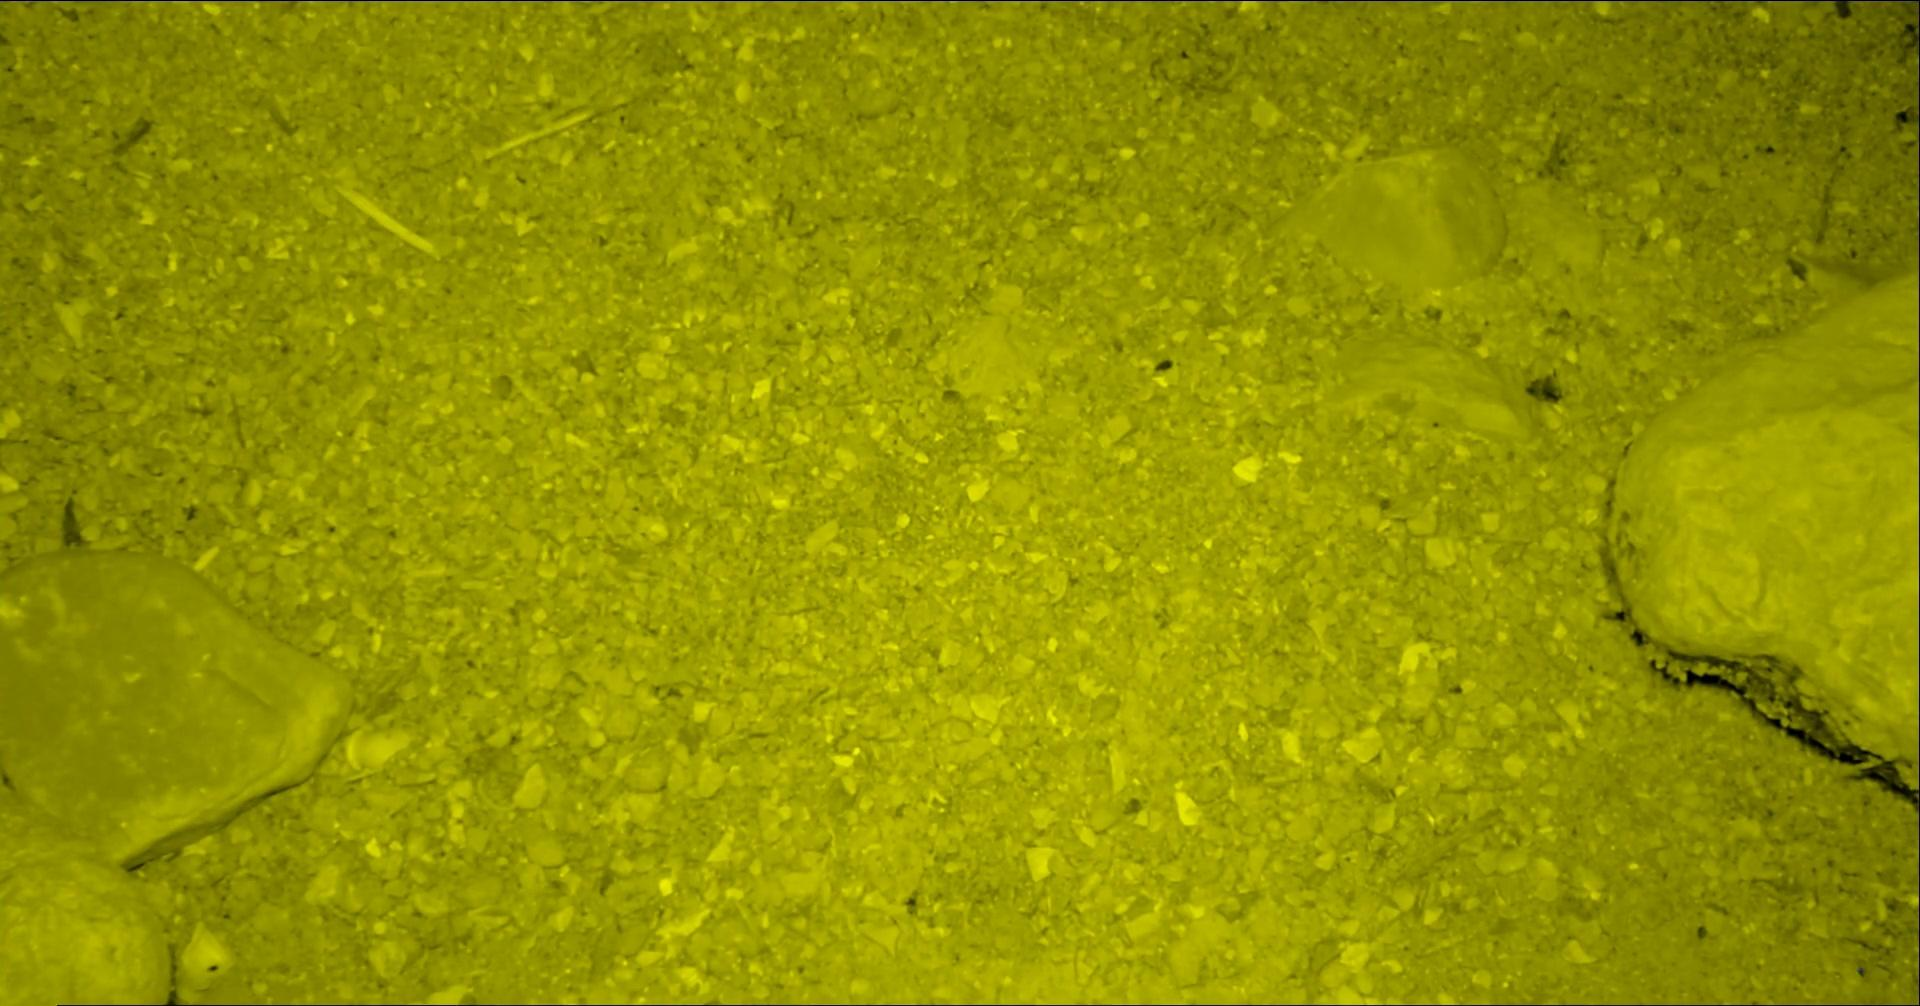ant: (1846, 0, 1919, 3), (1694, 0, 1746, 1)
